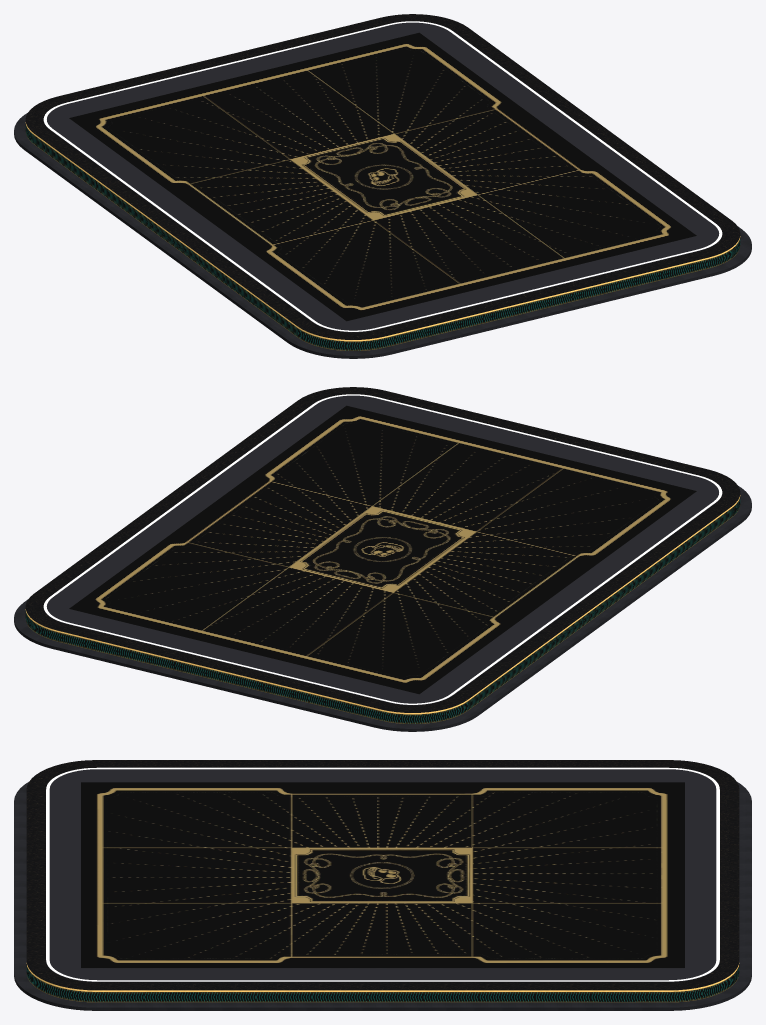
The model's file is mwx_field.glb.
3 renders of one model, top to bottom at view 1: azimuth 30°, elevation 25°; view 2: azimuth 150°, elevation 25°; view 3: azimuth 270°, elevation 25°, orthographic. The views are drawn at different scales.
Parts seen in each view (by area): view 1: mwx_field; view 2: mwx_field; view 3: mwx_field.
Boxes of the visible parts, x1,y1,x2,y2 form: mwx_field: [14, 14, 751, 358]; mwx_field: [14, 387, 751, 731]; mwx_field: [14, 760, 751, 1010].
Size of the model in its own units: 40.8 by 1.24 by 52.8.
7 materials, 5 textured.
